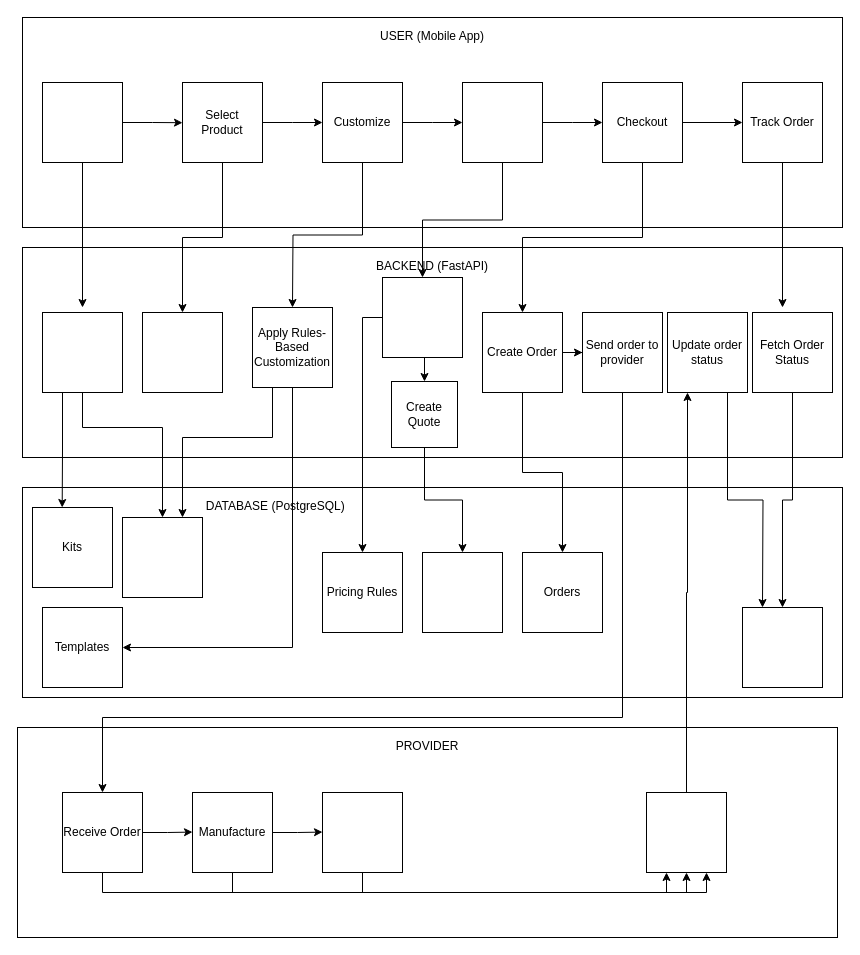
This 860x955 diagram has some shape labels left out. Each missing label, with the centre of its shape:
"Browse Catalog" goes at pixel 82 122.
"Calculate Pricing" goes at pixel 422 317.
"Fetch catalogs" goes at pixel 82 352.
"Order Status" goes at pixel 782 647.
"Products" goes at pixel 162 557.
"Quotes" goes at pixel 462 592.
"Request Quote" goes at pixel 502 122.
"Send Status Updates" goes at pixel 686 832.
"Ship Order" goes at pixel 362 832.
"Validate Product Selection" goes at pixel 182 352.
